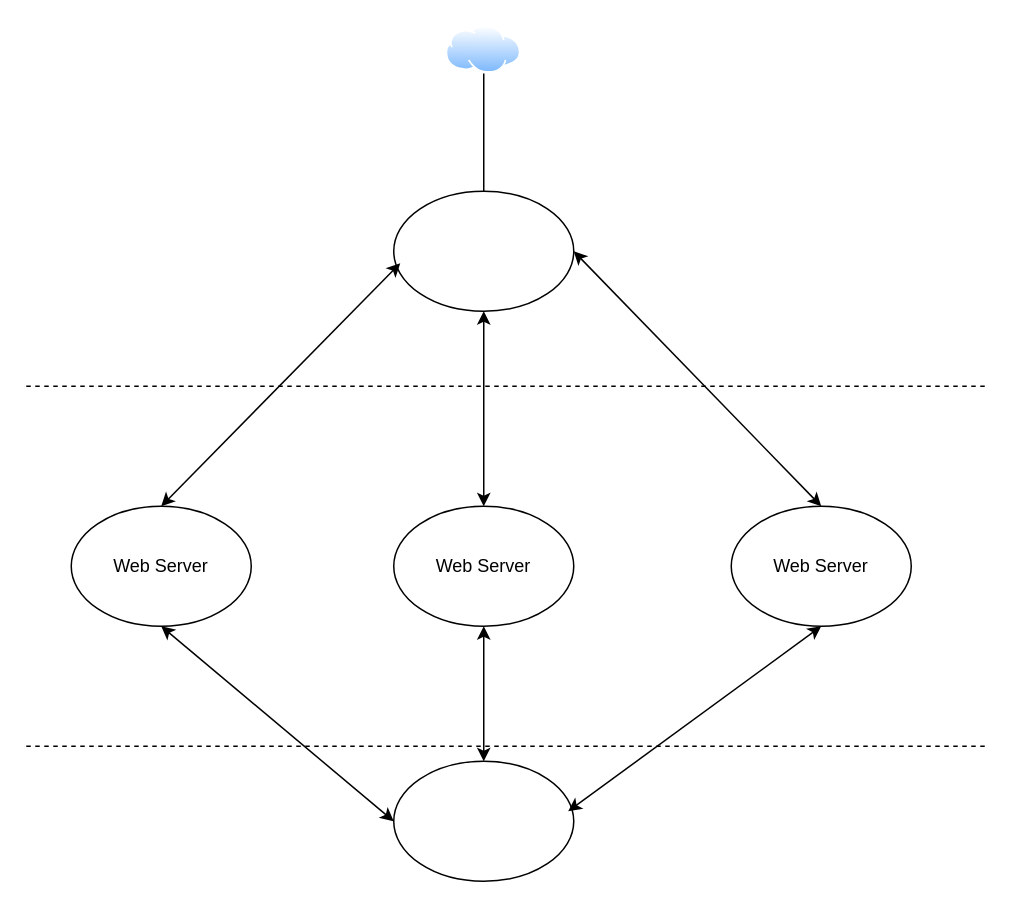
This 1014x908 diagram has some shape labels left out. The shapes that lost their labels are listed below. From the top down, each one's centre as x and y in pixels, then its label:
At (483,250): "Load Balancer".
At (483,820): "Data Server".
